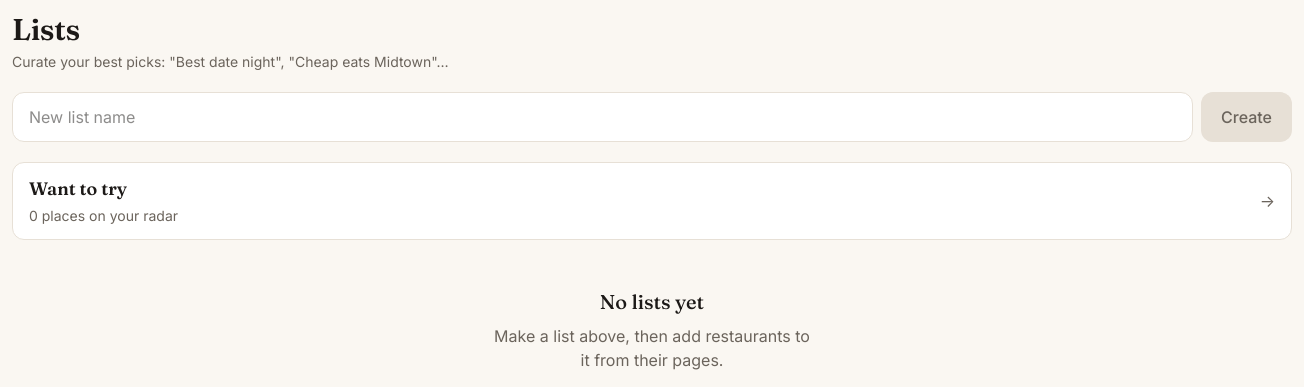
Scenario: Lists › adds restaurants to a list, edits a note, reorders, removes, renames and deletes
The image size is (1304, 387).
Later steps or results of the test are not shown.
Type "Favorites" into the field labelled "New list name". click: (602, 117)
box: [12,92,1193,142]
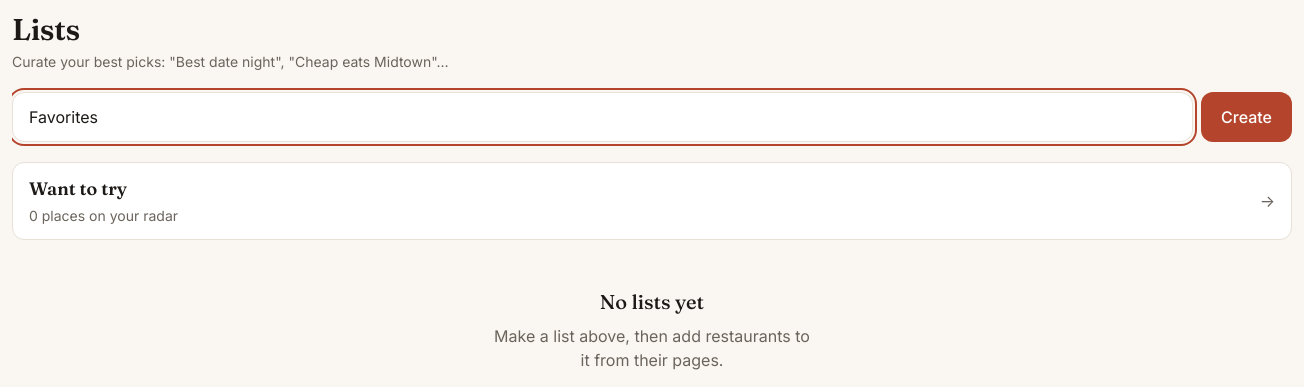
Click the button "Create". click: (1246, 117)
box: [1201,92,1292,142]
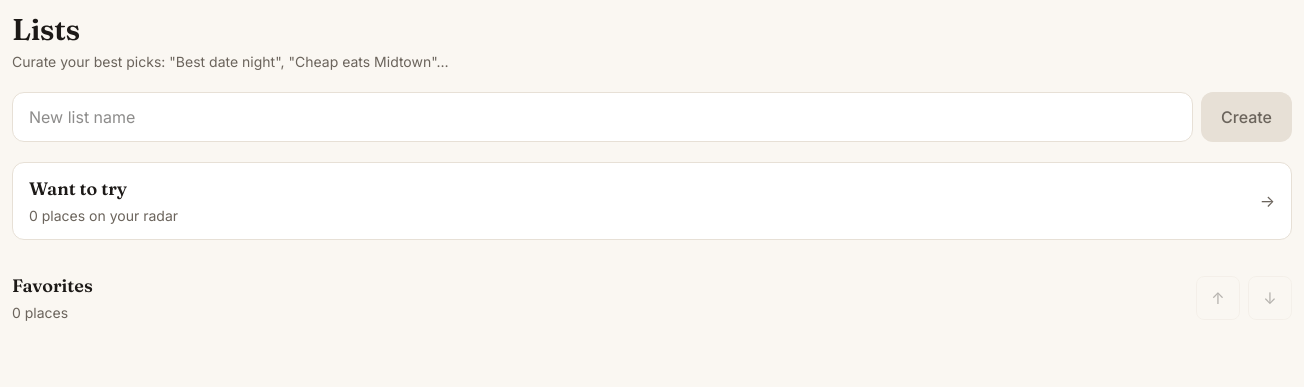
Click the link "Favorites 0 places". click: (52, 298)
box: [12,274,93,321]
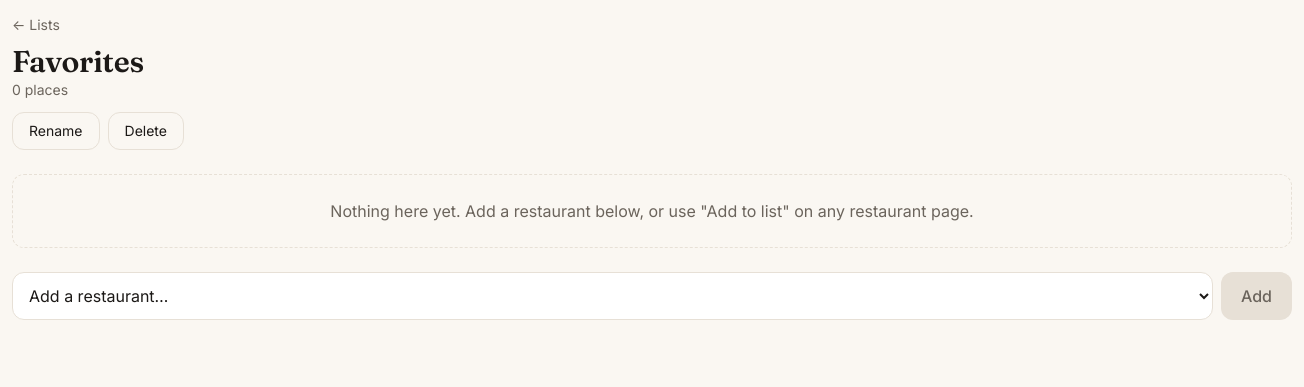
Check: the text "Nothing here yet" is shown, box [330,201,974,221]
